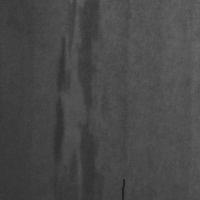inclusion: (52, 1, 105, 198), (117, 94, 139, 168), (118, 177, 125, 200)
